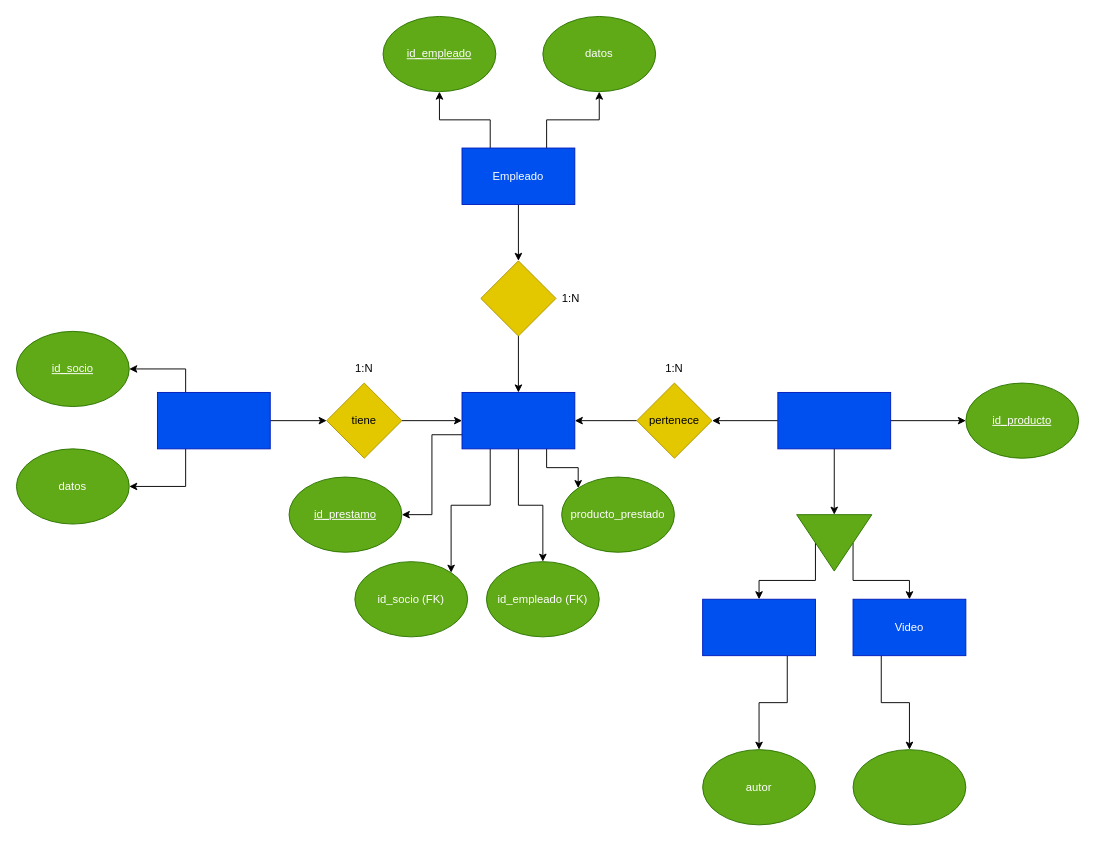
The diagram is 1095 pixels wide and 841 high, and some of its shapes have lost their labels. The centre of each missing label's shape, as x and y in pixels:
"Disco" goes at point 758,627.
"es" goes at point 834,542.
"hace" goes at point 518,298.
"Prestamo" goes at point 518,420.
"Producto" goes at point 834,420.
"protagonista" goes at point 909,787.
"Socio" goes at point 213,420.
